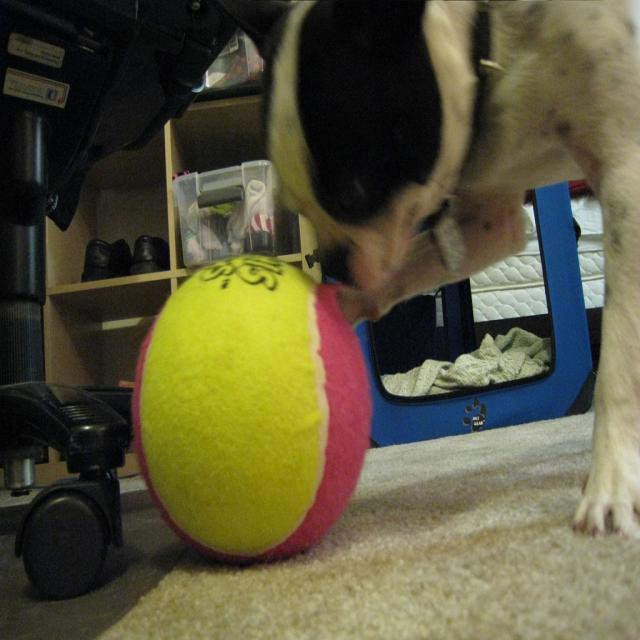Tennis ball: (129, 253, 373, 568)
